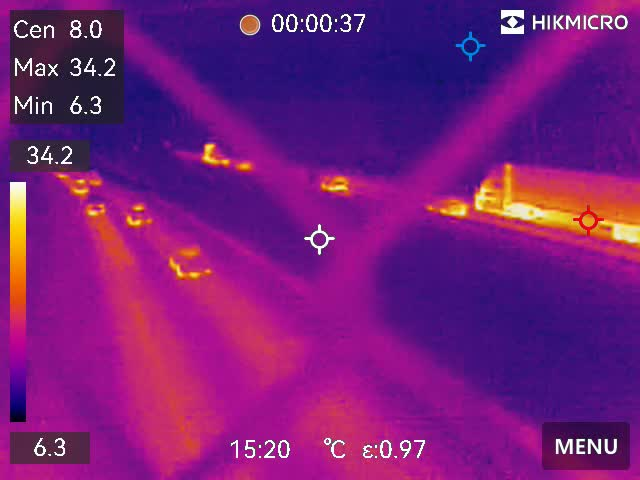heavyTruck: (476, 162, 640, 240)
vehicle: (163, 236, 213, 279)
